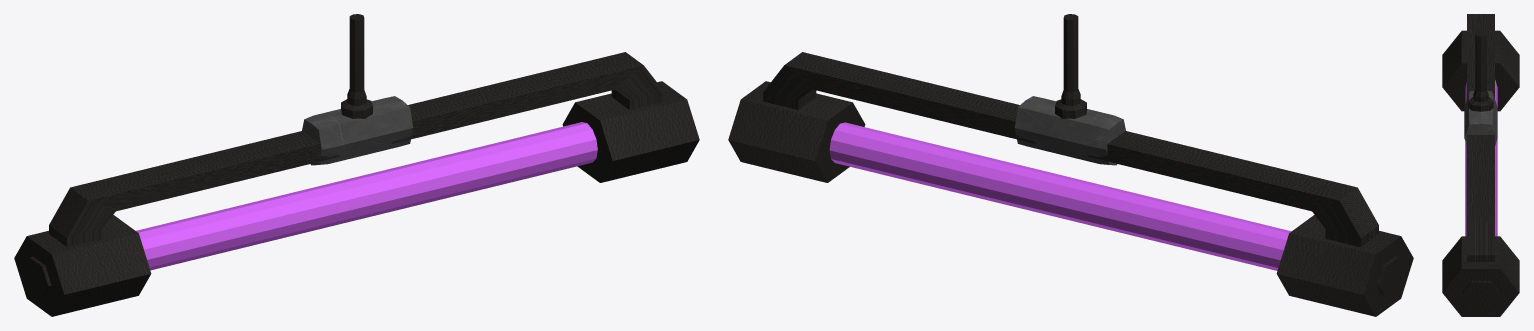
File: Luz.fbx
3 renders of one model, left to right at view 1: azimuth 30°, elevation 25°; view 2: azimuth 150°, elevation 25°; view 3: azimuth 270°, elevation 25°, orthographic. The views are drawn at different scales.
Visible parts, largest first — view 1: Cylinder.014; view 2: Cylinder.014; view 3: Cylinder.014.
Part boxes in pixels (box(x1,y1,x2,y2)): Cylinder.014: box(14, 14, 699, 316); Cylinder.014: box(728, 14, 1413, 316); Cylinder.014: box(1442, 14, 1519, 316).
Size of the model in its own units: 260 by 82.39 by 35.18.
Materials: 4 (3 with a texture image).
